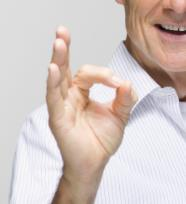left: (44, 21, 141, 170)
